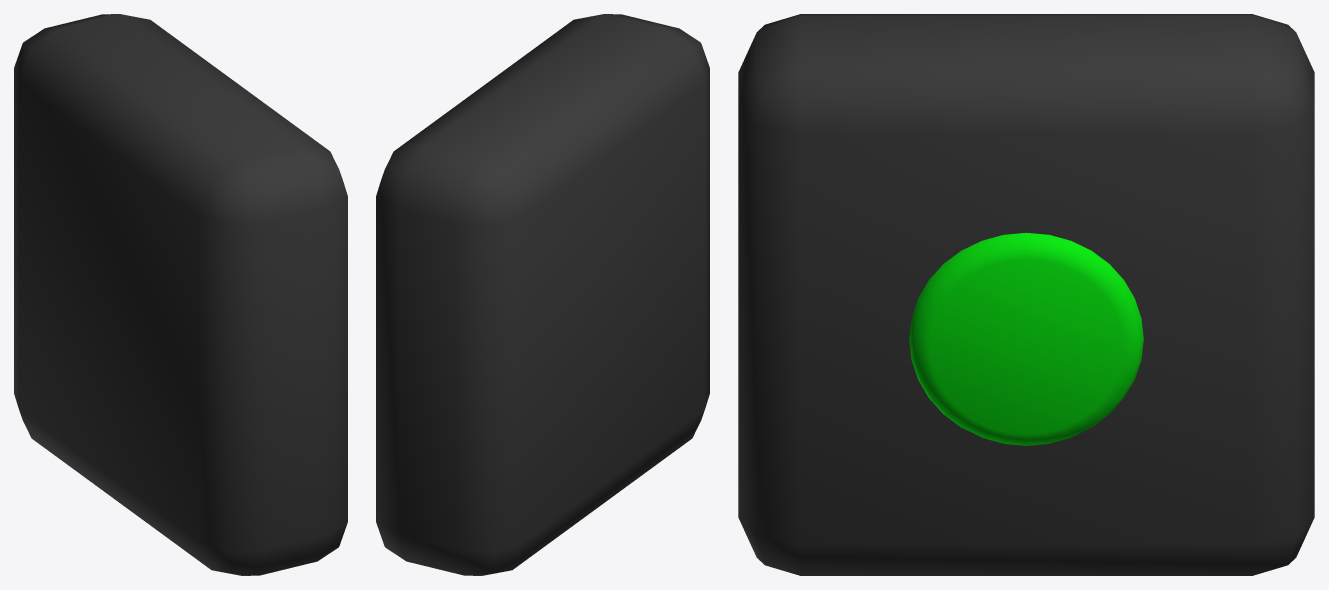
File: boton_verde.fbx
3 renders of one model, left to right at view 1: azimuth 30°, elevation 25°; view 2: azimuth 150°, elevation 25°; view 3: azimuth 270°, elevation 25°, orthographic. The views are drawn at different scales.
Visible parts, largest first — view 1: Cylinder; view 2: Cylinder; view 3: Cylinder.
Part boxes in pixels (x1,y1,x2,y2): Cylinder: [14, 14, 347, 575]; Cylinder: [376, 14, 709, 575]; Cylinder: [738, 14, 1314, 575].
Bounding box in the file's own units: 32.8 × 83.12 × 83.12.
